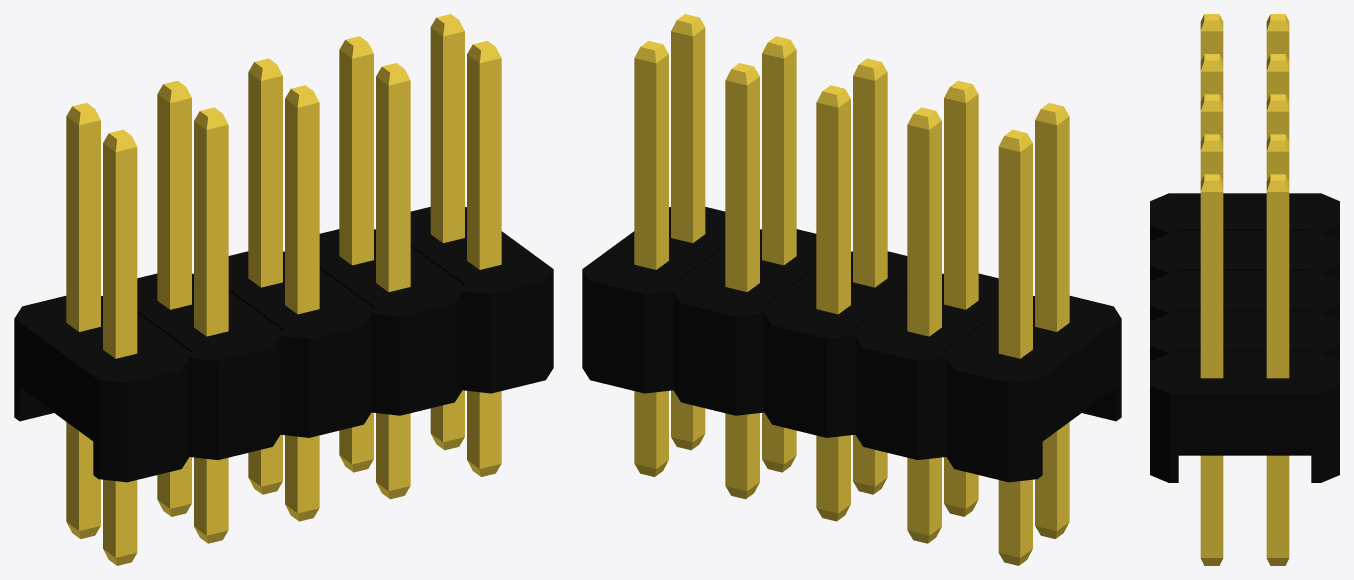
The model's file is pin_2x5_2.54mm_gold.glb.
3 views of the same model, side by side, from view 1: azimuth 30°, elevation 25°; view 2: azimuth 150°, elevation 25°; view 3: azimuth 270°, elevation 25° (orthographic). The views are drawn at different scales.
Visible parts, largest first — view 1: Solid2, Solid1; view 2: Solid2, Solid1; view 3: Solid1, Solid2.
Boxes of the visible parts, left/top/right/bottom form: Solid2: left=66, top=14, right=501, bottom=565; Solid1: left=14, top=207, right=553, bottom=482; Solid2: left=634, top=14, right=1069, bottom=565; Solid1: left=582, top=207, right=1121, bottom=482; Solid1: left=1150, top=193, right=1339, bottom=482; Solid2: left=1200, top=14, right=1289, bottom=565.
Bounding box in the file's own units: 0.0125 × 0.0112 × 0.005.
